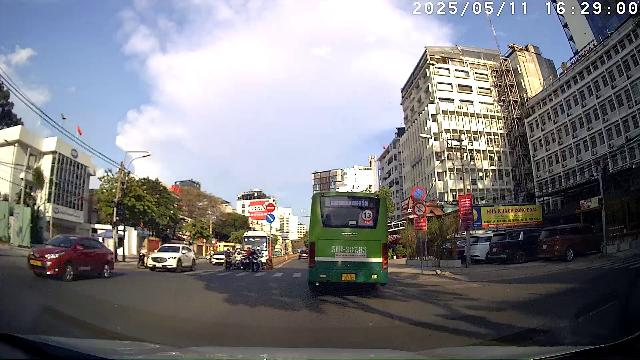130-cam-dung-va-do-xe: (266, 203, 275, 213)
131a-cam-do-xe: (412, 186, 426, 202)
302a-huong-phai-di-vong-chuong-ngai-vat-1: (266, 213, 275, 223)
